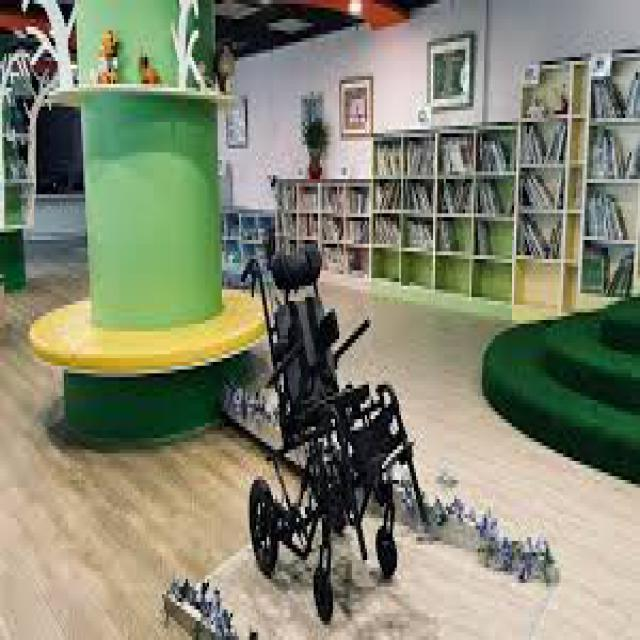wheelchair: (249, 225, 426, 625)
